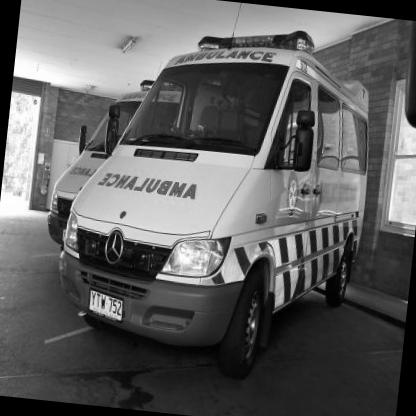ambulance: (56, 7, 381, 385)
